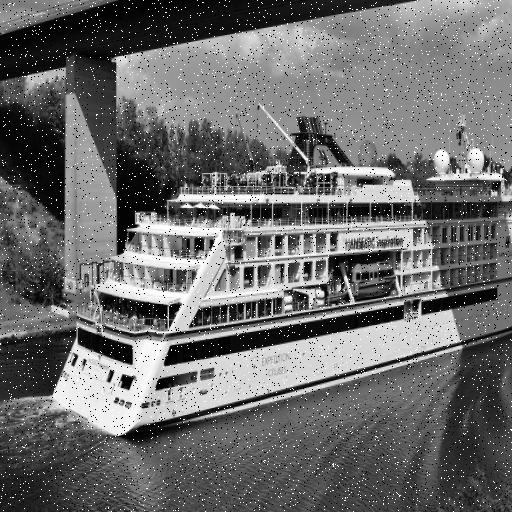cruises: (49, 98, 512, 448)
